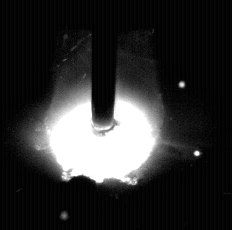arame: (92, 0, 116, 135)
poca: (43, 0, 165, 230)
